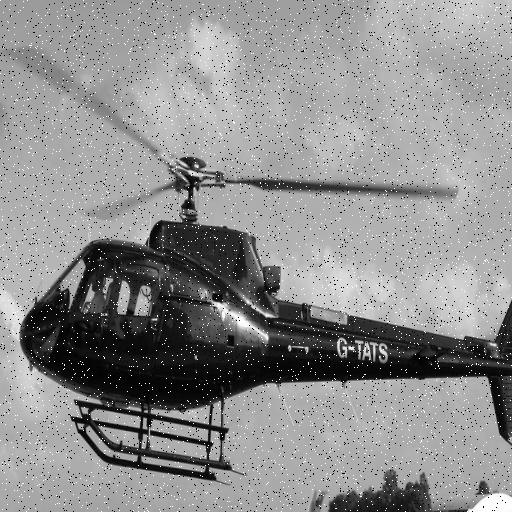helicopter: (21, 49, 512, 492)
